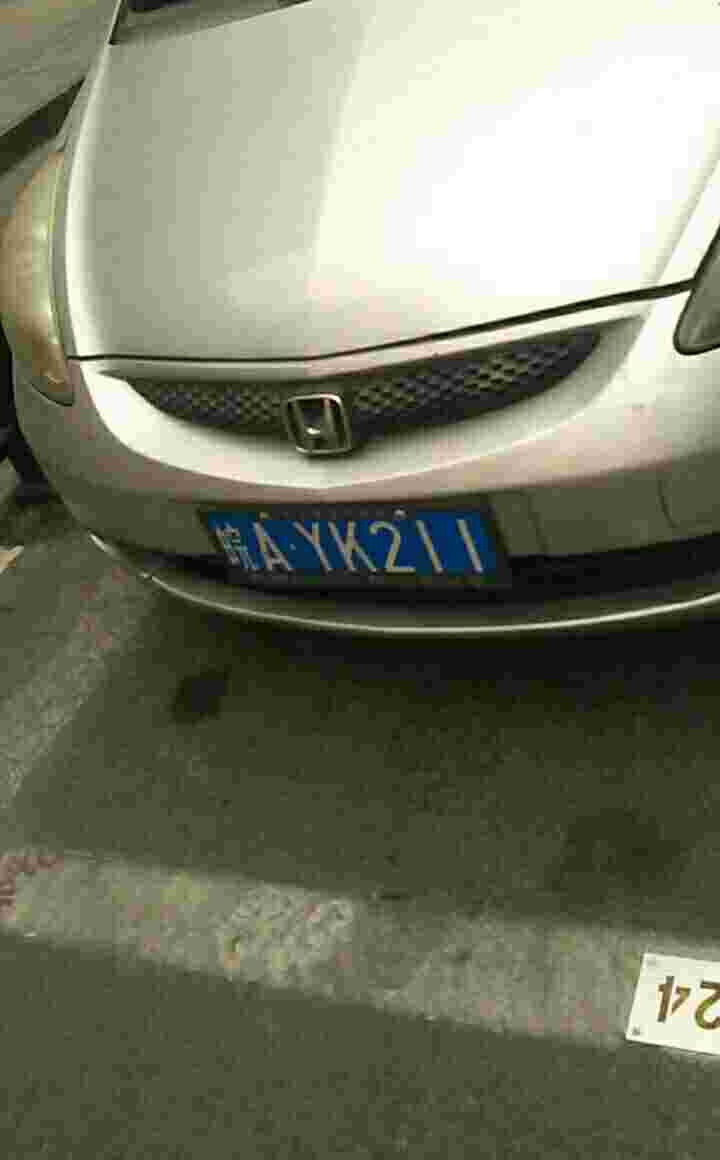license_plate: (212, 503, 510, 582)
